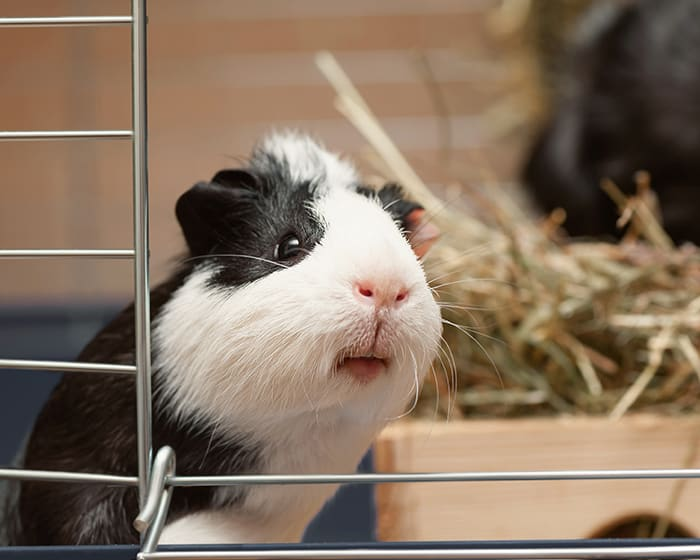pet: (7, 127, 446, 548)
